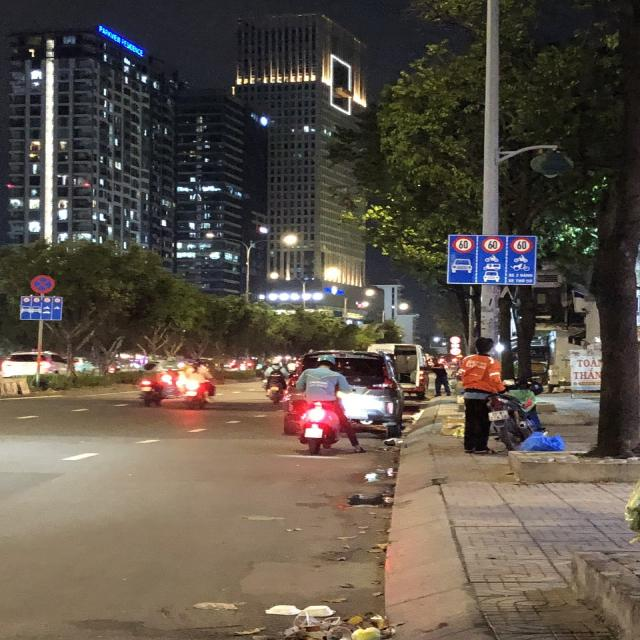Bien bao cam dung xe va do xe: (28, 272, 57, 296)
Bien bao toc do toi da cho phep: (478, 232, 506, 254), (508, 234, 538, 254), (449, 233, 476, 254)
